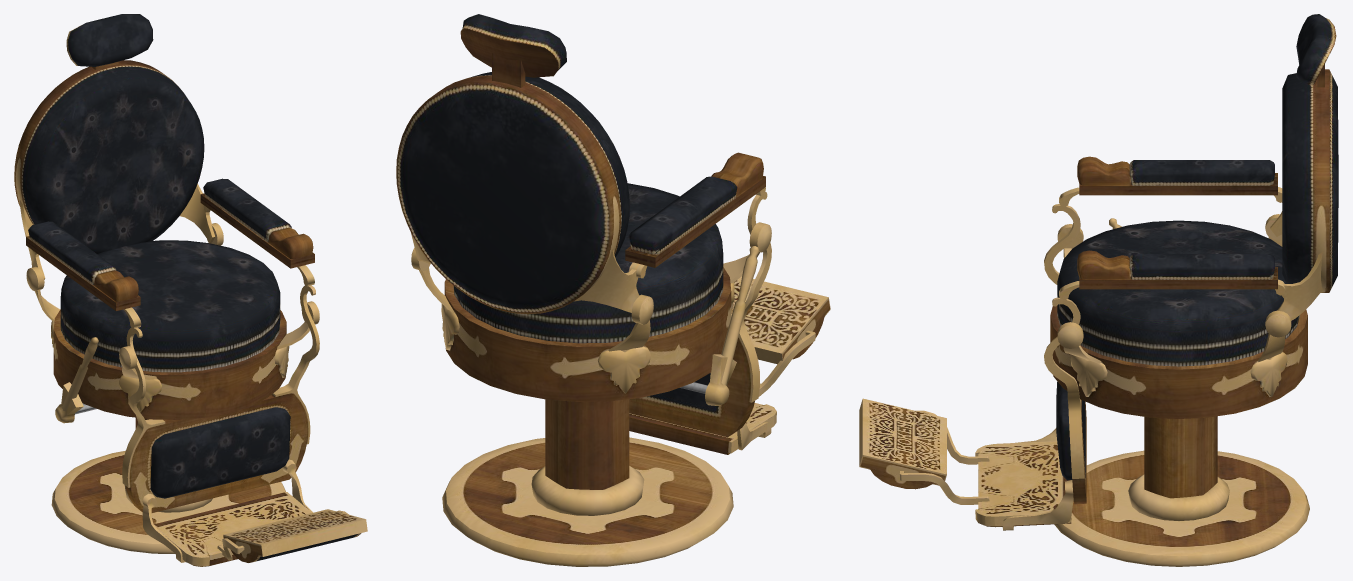
File: BarberShopChair_01.glb
3 views of the same model, side by side, from view 1: azimuth 30°, elevation 25°; view 2: azimuth 150°, elevation 25°; view 3: azimuth 270°, elevation 25° (orthographic). The views are drawn at different scales.
Parts seen in each view (by area): view 1: BarberShopChair_01; view 2: BarberShopChair_01; view 3: BarberShopChair_01.
Boxes of the visible parts, x1,y1,x2,y2 form: BarberShopChair_01: (14, 14, 367, 566); BarberShopChair_01: (396, 14, 830, 566); BarberShopChair_01: (859, 14, 1338, 566).
Size of the model in its own units: 0.7565 by 1.49 by 1.33.
Materials: 1 (1 with a texture image).
